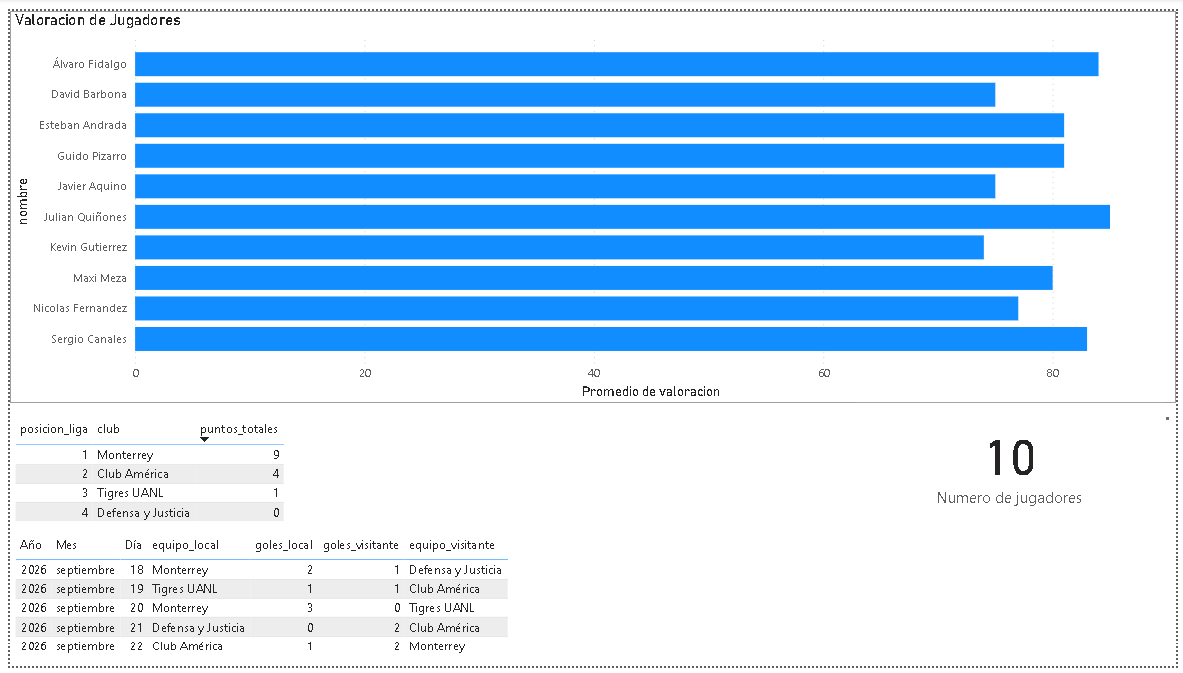

The page's visual inventory and layout, read from the dashboard file:
{"tool":"powerbi","page":{"name":"Página 1","canvas":[1280,720],"ordinal":0},"visuals":[{"type":"clusteredBarChart","title":"Valoracion de Jugadores","fields":{"Category":["public ranking_mejores_jugadores.nombre"],"Y":["Avg(public ranking_mejores_jugadores.valoracion)"]},"box":[0,0,1280.4,430.4],"z":0},{"type":"card","fields":{"Values":["Count(public ranking_mejores_jugadores.nombre)"]},"box":[929,430.4,336,128.5],"z":1000},{"type":"tableEx","fields":{"Values":["public vista_historial_partidos.fecha.Variación.Jerarquía de fechas.Año","public vista_historial_partidos.fecha.Variación.Jerarquía de fechas.Mes","public vista_historial_partidos.fecha.Variación.Jerarquía de fechas.Día","public vista_historial_partidos.equipo_local","public vista_historial_partidos.goles_local","public vista_historial_partidos.goles_visitante","public vista_historial_partidos.equipo_visitante"]},"box":[0,569.8,572.9,150.2],"z":3000},{"type":"tableEx","fields":{"Values":["public tabla_posiciones.posicion_liga","public tabla_posiciones.club","public tabla_posiciones.puntos_totales"]},"box":[0,442.8,314.3,127],"z":4000}]}

Visuals, with their boxes in screenshot pixels (x1, y1, x2, y2), scaled from the page's 1280x720 canvas onto the 1183x673 screenshot:
"Valoracion de Jugadores" clusteredBarChart: (0, 0, 1182, 402)
card - Count(public ranking_mejores_jugadores.nombre): (859, 402, 1169, 522)
tableEx - public vista_historial_partidos.fecha.Variación.Jerarquía de fechas.Año x public vista_historial_partidos.fecha.Variación.Jerarquía de fechas.Mes: (0, 533, 529, 672)
tableEx - public tabla_posiciones.posicion_liga x public tabla_posiciones.club: (0, 414, 290, 533)
